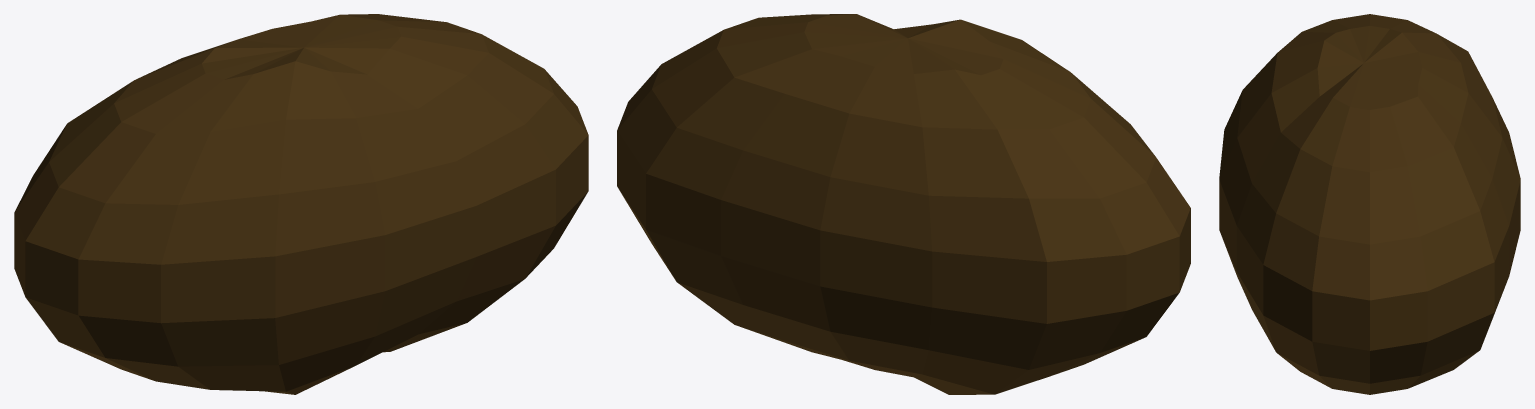
File: Potato.fbx
3 renders of one model, left to right at view 1: azimuth 30°, elevation 25°; view 2: azimuth 150°, elevation 25°; view 3: azimuth 270°, elevation 25°, orthographic. The views are drawn at different scales.
Parts seen in each view (by area): view 1: Sphere.020; view 2: Sphere.020; view 3: Sphere.020.
Boxes of the visible parts, x1,y1,x2,y2 form: Sphere.020: (14, 14, 588, 394); Sphere.020: (617, 14, 1190, 394); Sphere.020: (1219, 14, 1520, 394).
Size of the model in its own units: 24.94 by 14.44 by 13.11.
